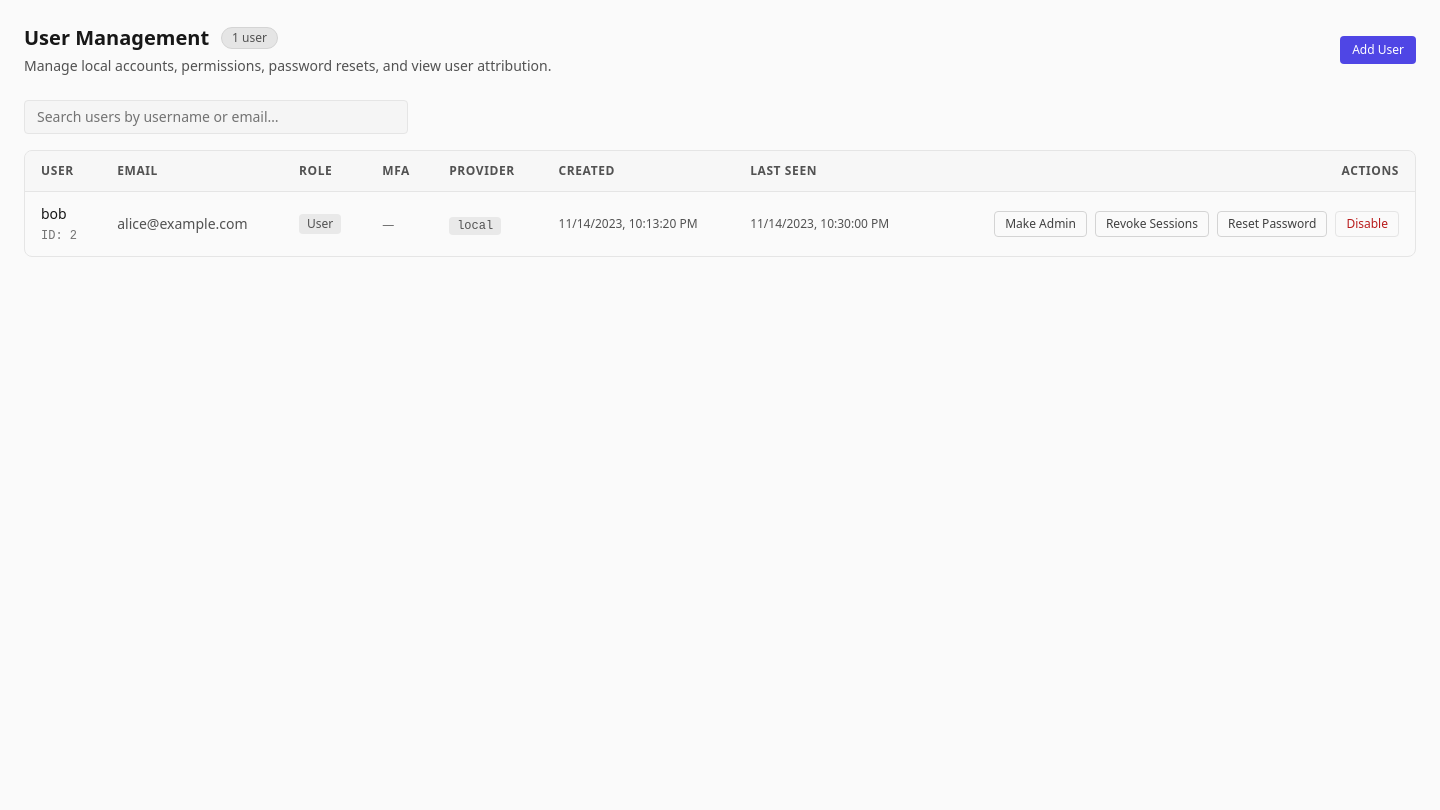
Test: UsersPage row actions › admin dialog surfaces a failed mutation and stays open
This screenshot has width=1440, height=810.
Click the button "Make Admin": (1041, 224) [994,211,1087,237]
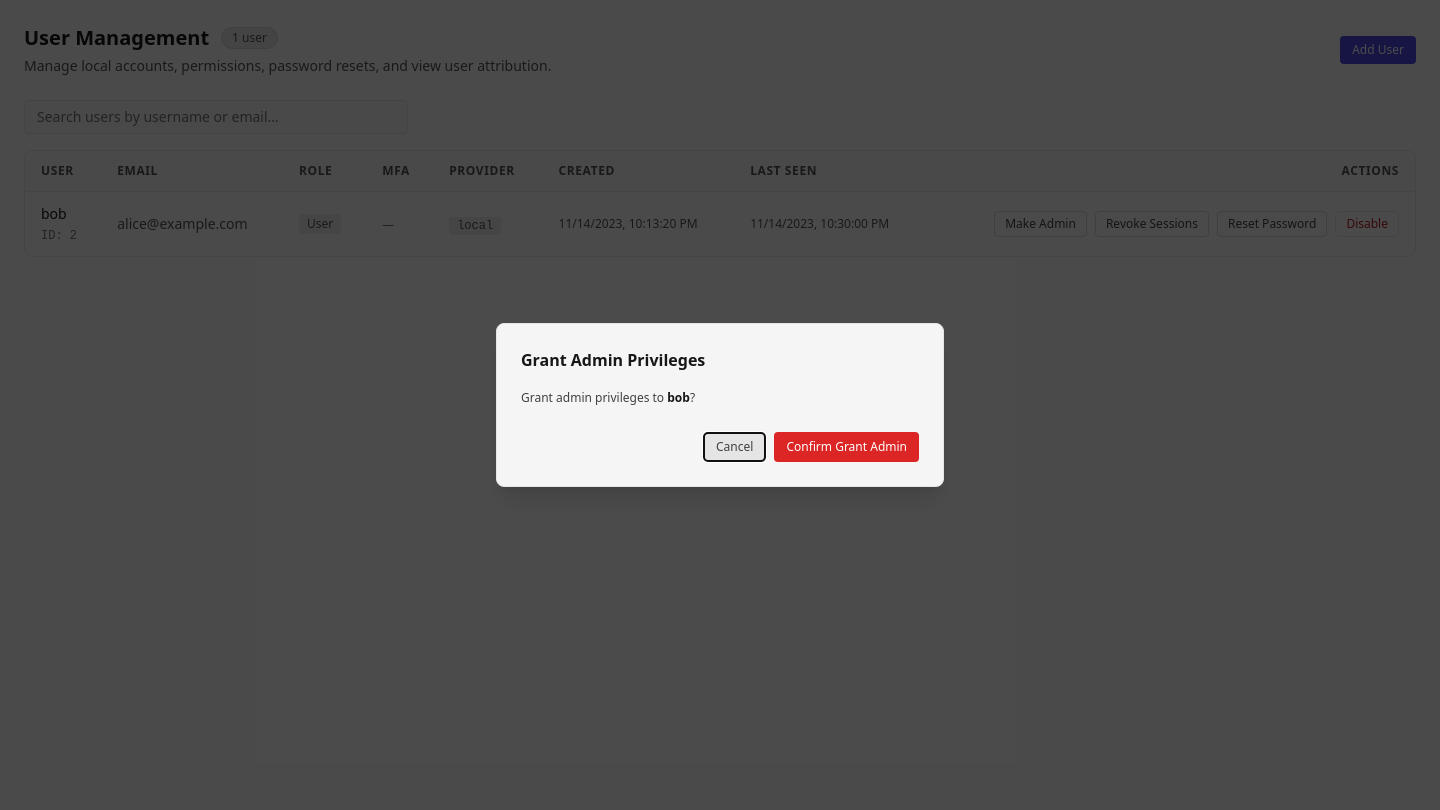
Click the button "Confirm Grant Admin": (847, 447) [774,432,919,462]
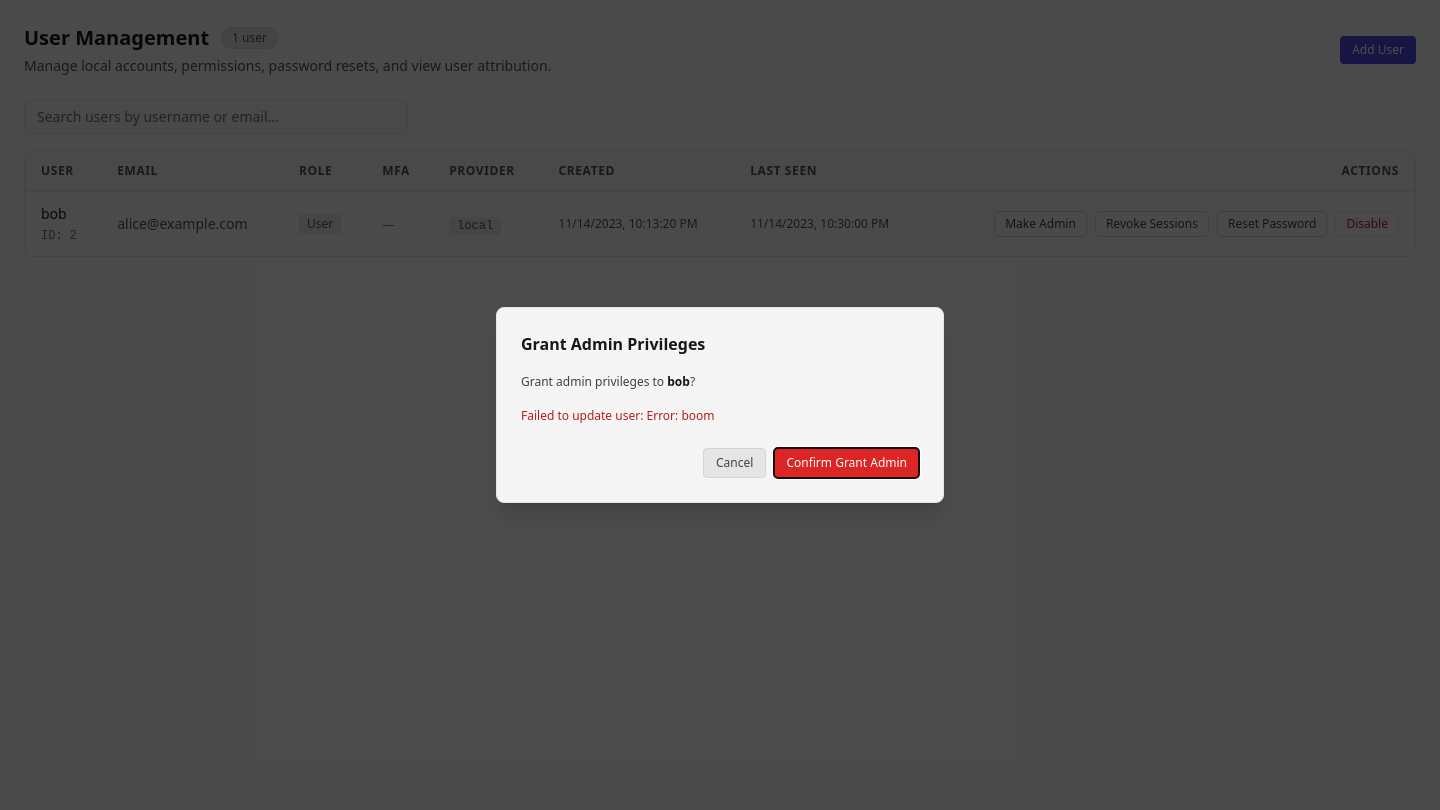
Check: the dialog "Grant Admin Privileges" shows "Failed to update user: Error: boom", box [496,307,944,503]
